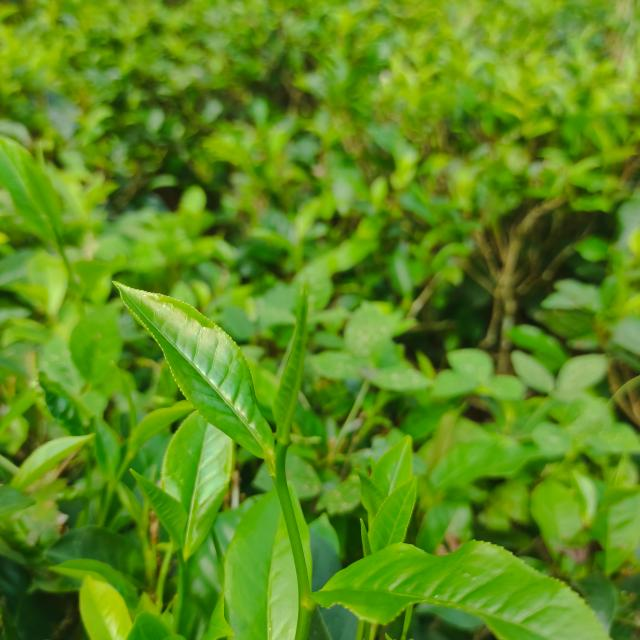unopened_leaf: (256, 266, 330, 474), (99, 354, 151, 437), (353, 511, 380, 563)
